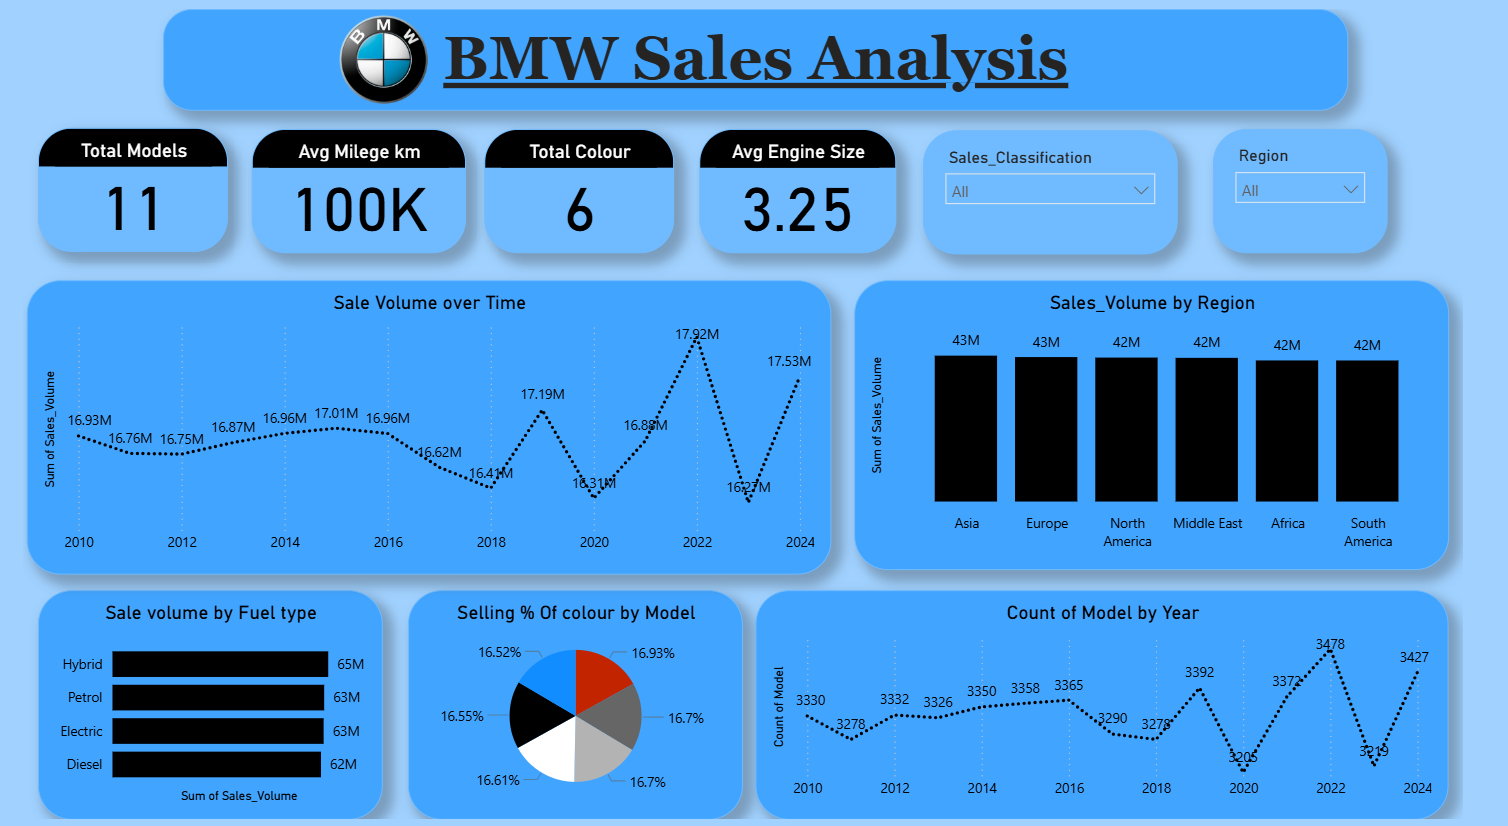

The page's visual inventory and layout, read from the dashboard file:
{"tool":"powerbi","page":{"name":"Page 1","canvas":[1280,720],"ordinal":0},"visuals":[{"type":"textbox","box":[124.9,0,1053.9,90.6],"z":0},{"type":"image","box":[231.2,0,178.8,90],"z":1000},{"type":"card","title":"Total Models","fields":{"Values":["measure (2).models"]},"box":[13.7,105.7,169.2,110.7],"z":2000},{"type":"card","title":"Avg Milege km","fields":{"Values":["measure (2).avg milege km"]},"box":[203.8,106.2,190,110],"z":3000},{"type":"card","title":"Total Colour","fields":{"Values":["measure (2).total colour"]},"box":[410,106.2,168.8,110],"z":4000},{"type":"card","title":"Avg Engine Size","fields":{"Values":["measure (2).avg engine size"]},"box":[601.2,106.2,175,110],"z":5000},{"type":"pieChart","title":"Selling  % Of  colour by Model","fields":{"Y":["CountNonNull(BMW sales data (2010-2024) (1) (1).Model)"],"Category":["BMW sales data (2010-2024) (1) (1).Color"]},"box":[342.5,516.2,297.5,203.8],"z":6000},{"type":"barChart","title":"Sale volume by Fuel type","fields":{"Category":["BMW sales data (2010-2024) (1) (1).Fuel_Type"],"Y":["Sum(BMW sales data (2010-2024) (1) (1).Sales_Volume)"]},"box":[3.8,516.2,316.2,203.8],"z":7000},{"type":"lineChart","title":"Sale Volume over Time","fields":{"Category":["BMW sales data (2010-2024) (1) (1).Year"],"Y":["Sum(BMW sales data (2010-2024) (1) (1).Sales_Volume)"]},"box":[3.8,241.2,715,261.2],"z":8000},{"type":"slicer","fields":{"Values":["BMW sales data (2010-2024) (1) (1).Region"]},"box":[1057.5,106.2,155,110],"z":9000},{"type":"clusteredColumnChart","title":"Sales_Volume by Region","fields":{"Category":["BMW sales data (2010-2024) (1) (1).Region"],"Y":["Sum(BMW sales data (2010-2024) (1) (1).Sales_Volume)"]},"box":[738.8,241.2,528.8,257.5],"z":10000},{"type":"lineChart","fields":{"Category":["BMW sales data (2010-2024) (1) (1).Year"],"Y":["CountNonNull(BMW sales data (2010-2024) (1) (1).Model)"]},"box":[651.2,516.2,616.2,203.8],"z":11000},{"type":"slicer","fields":{"Values":["BMW sales data (2010-2024) (1) (1).Sales_Classification"]},"box":[800,107.5,226.2,110],"z":12000}]}

Visuals, with their boxes in screenshot pixels (x1, y1, x2, y2), scaled from the page's 1280x720 canvas onto the 1508x826 screenshot:
textbox: 147,0,1389,104
image: 272,0,483,103
"Total Models" card: 16,121,215,248
"Avg Milege km" card: 240,122,464,248
"Total Colour" card: 483,122,682,248
"Avg Engine Size" card: 708,122,914,248
"Selling  % Of  colour by Model" pieChart: 404,592,754,825
"Sale volume by Fuel type" barChart: 4,592,377,825
"Sale Volume over Time" lineChart: 4,277,847,576
slicer - BMW sales data (2010-2024) (1) (1).Region: 1246,122,1428,248
"Sales_Volume by Region" clusteredColumnChart: 870,277,1493,572
lineChart - BMW sales data (2010-2024) (1) (1).Year x CountNonNull(BMW sales data (2010-2024) (1) (1).Model): 767,592,1493,825
slicer - BMW sales data (2010-2024) (1) (1).Sales_Classification: 943,123,1209,250
